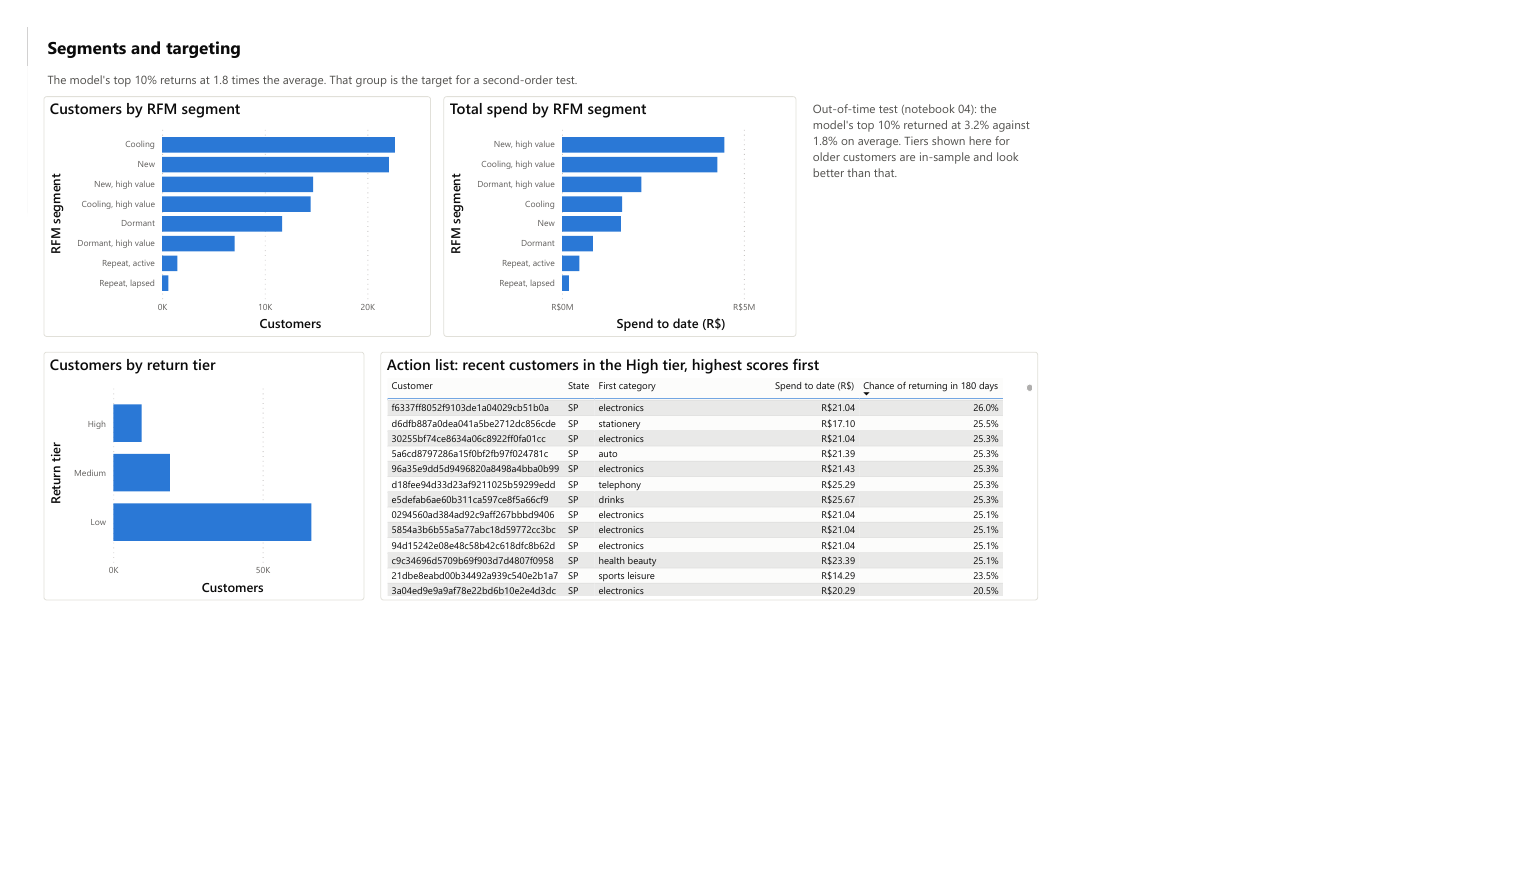

The page's visual inventory and layout, read from the dashboard file:
{"tool":"powerbi","page":{"name":"Segments and targeting","canvas":[1280,720],"ordinal":4},"visuals":[{"type":"barChart","title":"Customers by RFM segment","fields":{"Y":["_Measures.Customers"],"Category":["Customers.segment"]},"box":[20,85.7,482.9,300],"z":0},{"type":"barChart","title":"Total spend by RFM segment","fields":{"Y":["Sum(Customers.total_spend)"],"Category":["Customers.segment"]},"box":[518.6,85.7,440,300],"z":1000},{"type":"barChart","title":"Customers by return tier","fields":{"Category":["Customers.return_tier"],"Y":["_Measures.Customers"]},"box":[20,404.3,400,310],"z":2000},{"type":"textbox","box":[974.3,85.7,285.7,300],"z":3000},{"type":"tableEx","title":"Action list: recent customers in the High tier, highest scores first","fields":{"Values":["Customers.customer_unique_id","Customers.customer_state","Customers.first_lead_category","Sum(Customers.total_spend)","Sum(Customers.p_repeat_180d)"]},"box":[440,404.3,820,310],"z":4000},{"type":"textbox","box":[20,5,1240,45],"z":5000},{"type":"textbox","box":[20,50,1240,36],"z":6000}]}

Visuals, with their boxes in screenshot pixels (x1, y1, x2, y2), scaled from the page's 1280x720 canvas onto the 1522x880 screenshot:
"Customers by RFM segment" barChart: pyautogui.locateOnScreen(24, 105, 598, 471)
"Total spend by RFM segment" barChart: pyautogui.locateOnScreen(617, 105, 1140, 471)
"Customers by return tier" barChart: pyautogui.locateOnScreen(24, 494, 499, 873)
textbox: pyautogui.locateOnScreen(1159, 105, 1498, 471)
"Action list: recent customers in the High tier, highest scores first" tableEx: pyautogui.locateOnScreen(523, 494, 1498, 873)
textbox: pyautogui.locateOnScreen(24, 6, 1498, 61)
textbox: pyautogui.locateOnScreen(24, 61, 1498, 105)
